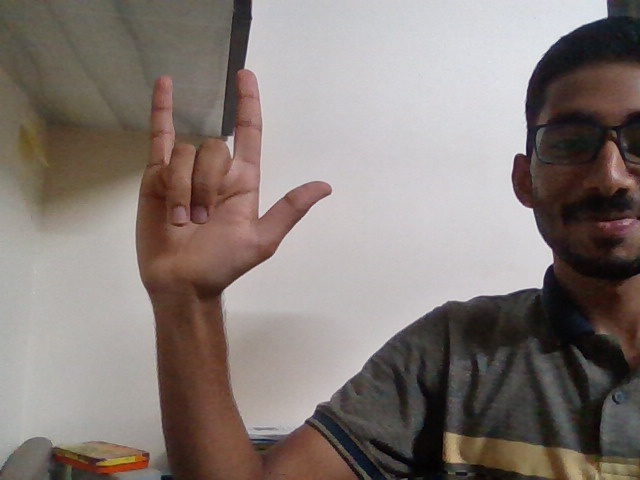Enjoy: (120, 51, 348, 324)
